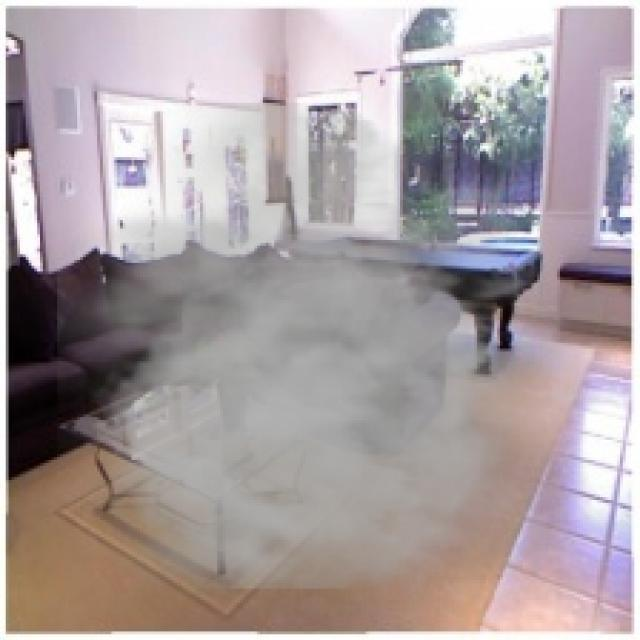Smoke: (57, 103, 589, 620)
